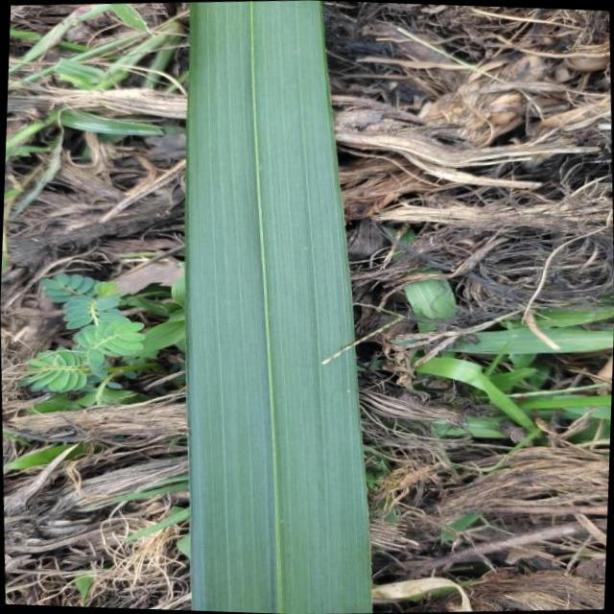Healthy: (183, 1, 374, 614)
